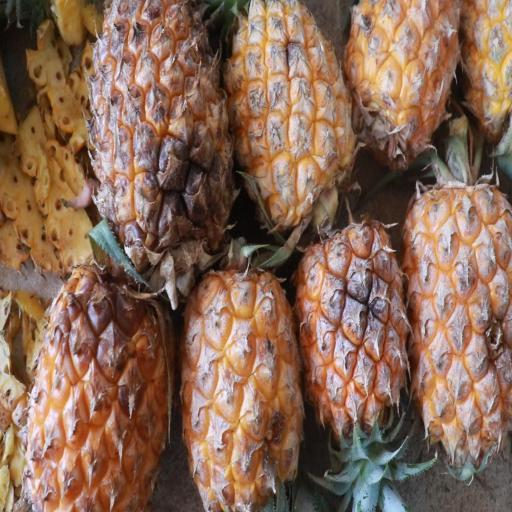Pineapple - v8 v1: (22, 248, 174, 512), (86, 0, 234, 259), (399, 165, 511, 484), (178, 249, 310, 512), (221, 0, 358, 232), (298, 214, 416, 442), (344, 0, 462, 172)
